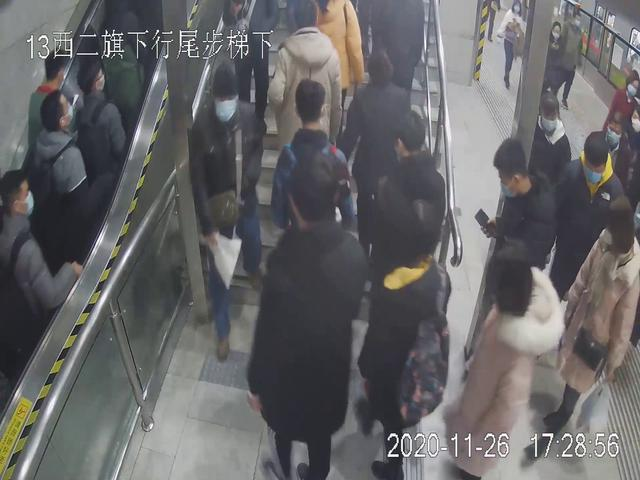person: (252, 161, 360, 480), (454, 241, 570, 475), (357, 197, 454, 474), (187, 66, 277, 357), (552, 193, 640, 447), (476, 137, 561, 371), (1, 163, 77, 376), (273, 78, 359, 230), (272, 4, 344, 183), (30, 88, 100, 268), (497, 2, 530, 86)
